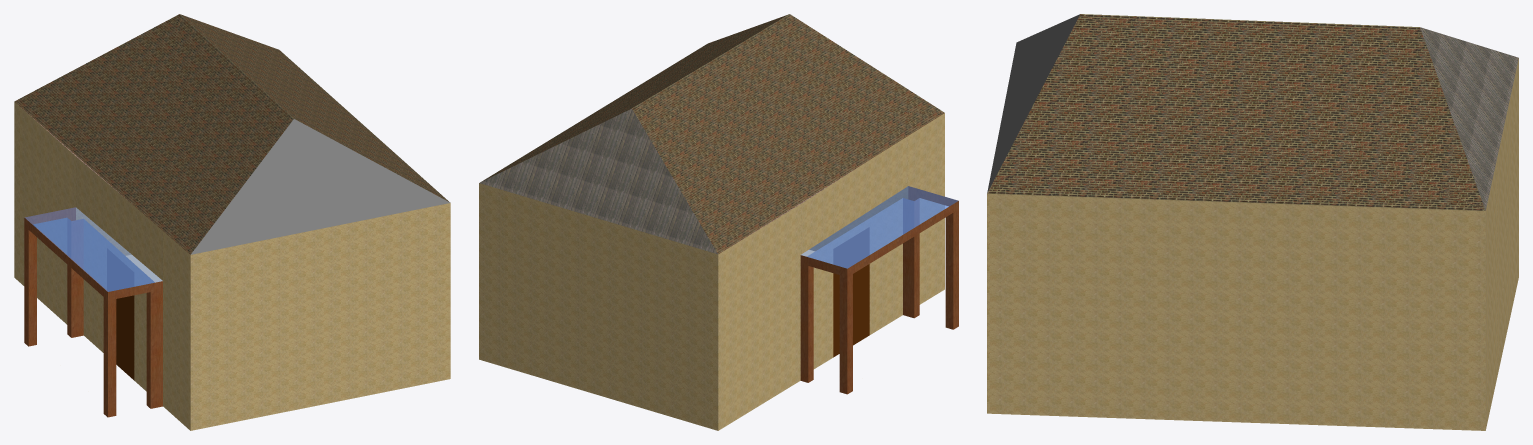
File: yss.gltf
3 renders of one model, left to right at view 1: azimuth 30°, elevation 25°; view 2: azimuth 150°, elevation 25°; view 3: azimuth 270°, elevation 25°, orthographic. The views are drawn at different scales.
Parts seen in each view (by area): view 1: root; view 2: root; view 3: root.
Part boxes in pixels (x1,y1,x2,y2): root: [14, 14, 450, 430]; root: [479, 14, 958, 430]; root: [987, 14, 1518, 430].
Bounding box in the file's own units: 11.88 × 9.15 × 13.49.
9 materials, 5 textured.
